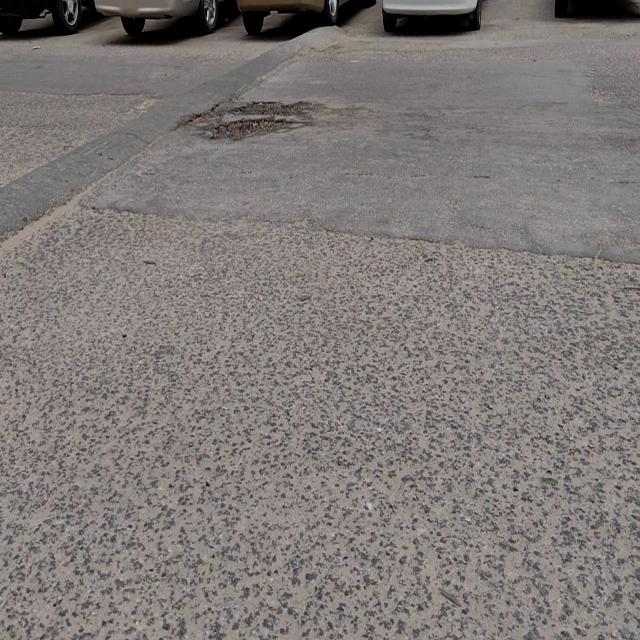Potholes: (198, 98, 310, 140)
